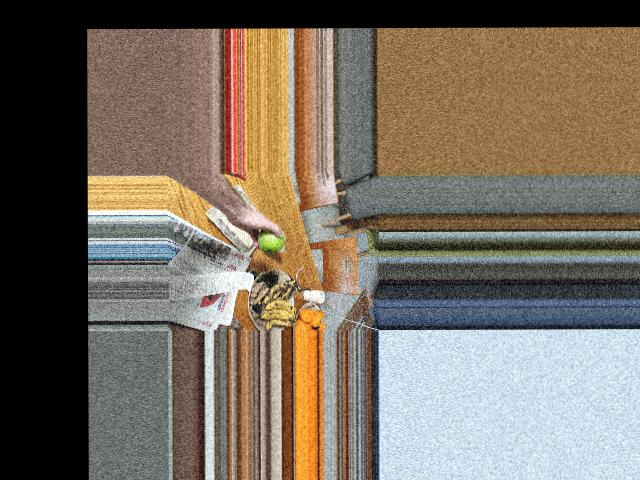apple: (253, 224, 286, 254)
